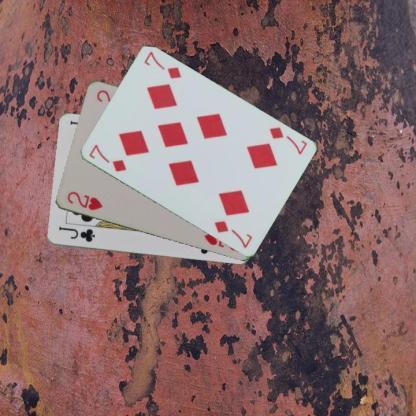2h: (64, 189, 104, 212)
7d: (86, 141, 127, 174), (266, 124, 308, 156)
Jc: (55, 224, 96, 243)
